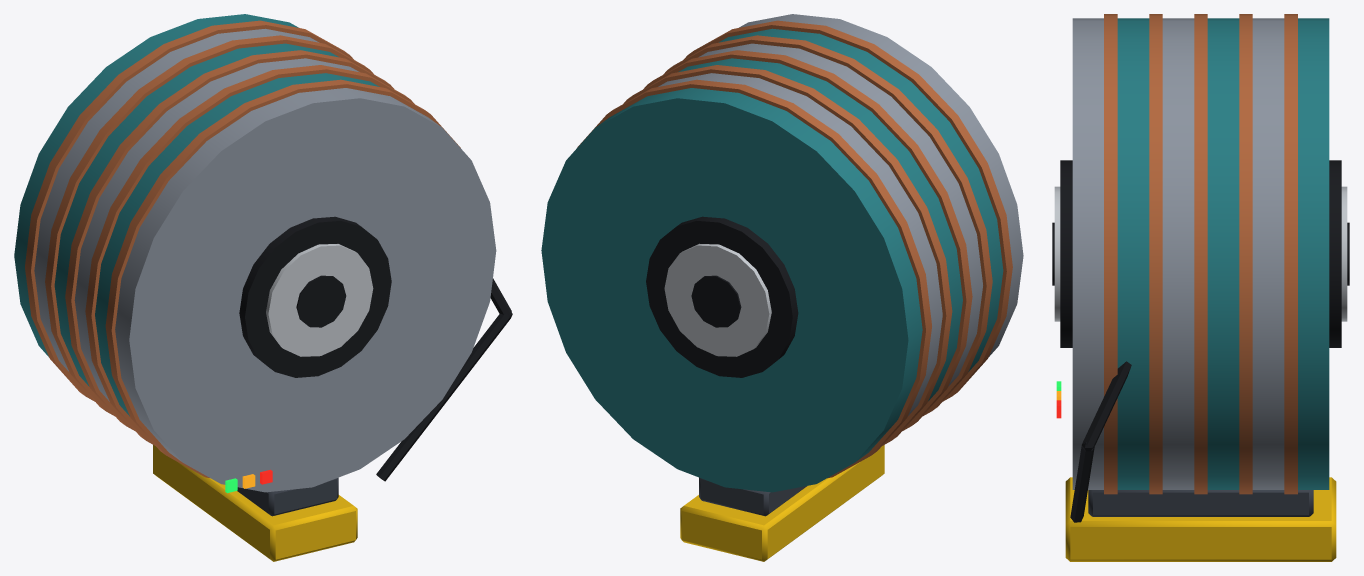
The model's file is particle_detector_ring_segment.glb.
3 views of the same model, side by side, from view 1: azimuth 30°, elevation 25°; view 2: azimuth 150°, elevation 25°; view 3: azimuth 270°, elevation 25° (orthographic). The views are drawn at different scales.
Visible parts, largest first — view 1: particle_detector_ring_segment; view 2: particle_detector_ring_segment; view 3: particle_detector_ring_segment.
Boxes of the visible parts, <box> form: particle_detector_ring_segment: <box>14,14,512,561</box>; particle_detector_ring_segment: <box>541,14,1023,561</box>; particle_detector_ring_segment: <box>1052,14,1349,561</box>.
Size of the model in its own units: 2.25 by 2.47 by 1.32.
